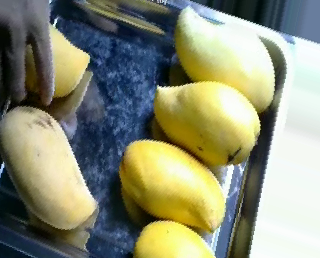Mango: (0, 104, 102, 231), (173, 7, 276, 112), (118, 138, 224, 231), (152, 82, 261, 165), (15, 21, 89, 97)
